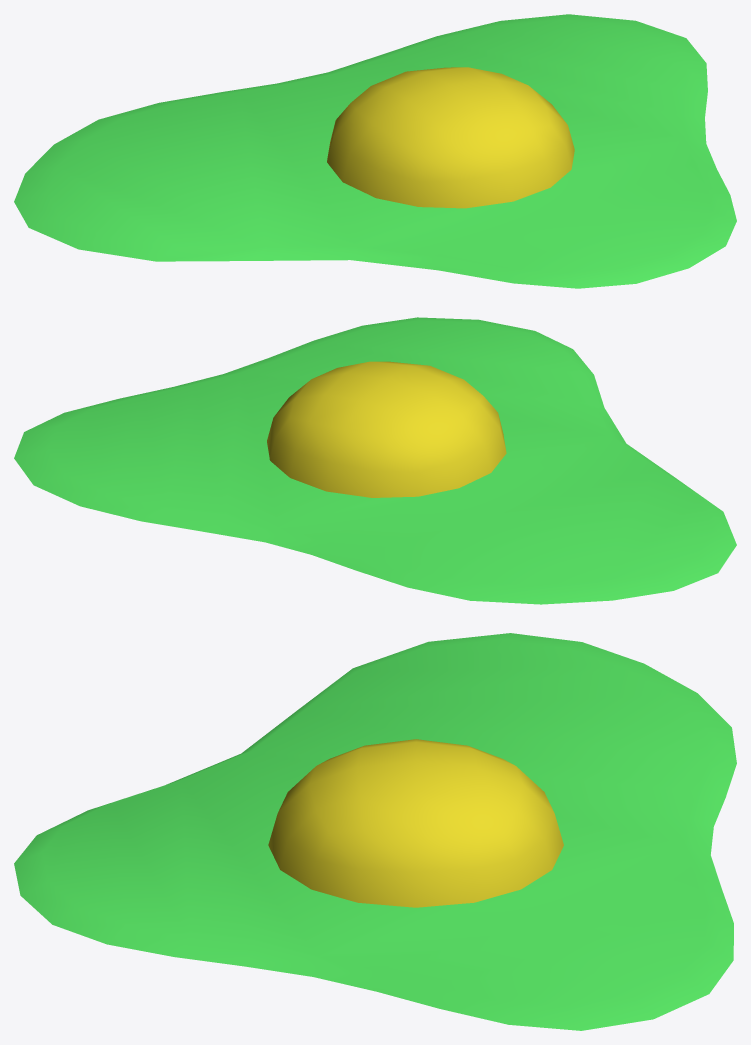
Rendered from Mess_Egg.fbx.
3 renders of one model, top to bottom at view 1: azimuth 30°, elevation 25°; view 2: azimuth 150°, elevation 25°; view 3: azimuth 270°, elevation 25°, orthographic. The views are drawn at different scales.
Parts seen in each view (by area): view 1: Mess_Egg; view 2: Mess_Egg; view 3: Mess_Egg.
Boxes of the visible parts, <box> form: Mess_Egg: <box>14,14,736,288</box>; Mess_Egg: <box>14,317,736,604</box>; Mess_Egg: <box>14,633,736,1030</box>.
Size of the model in its own units: 1.59 by 0.1724 by 1.22.
